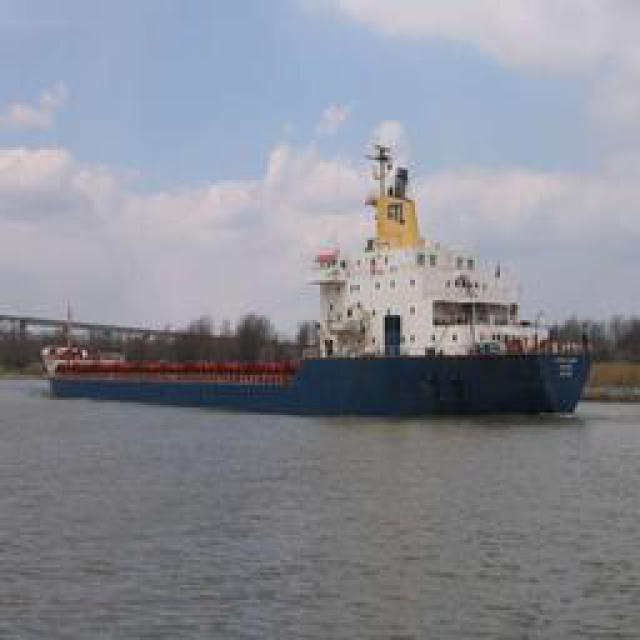Ship: (291, 125, 591, 413)
